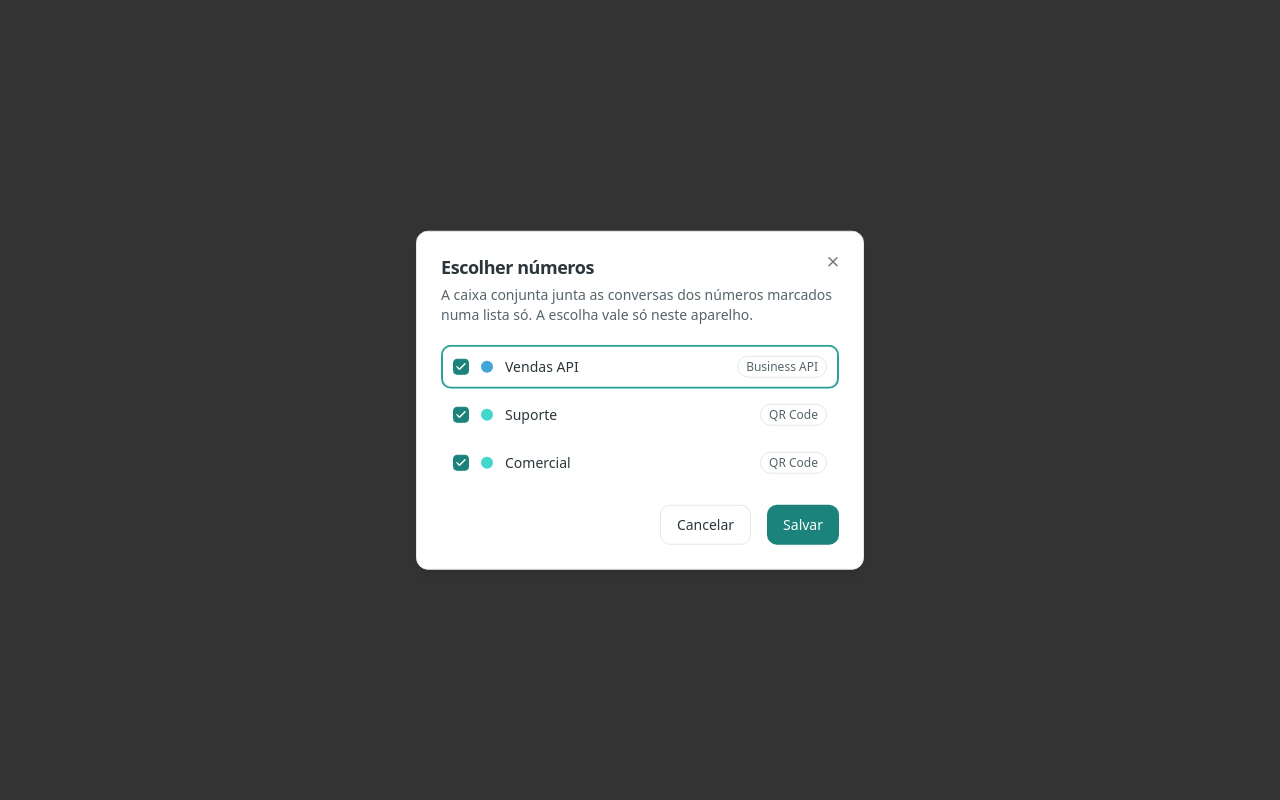
Test: CaixaConjuntaDialog › pede pelo menos 2 números e desliga o Salvar
Click the checkbox labelled "Suporte QR Code" at {"x": 531, "y": 414}, box [453,403,827,425]
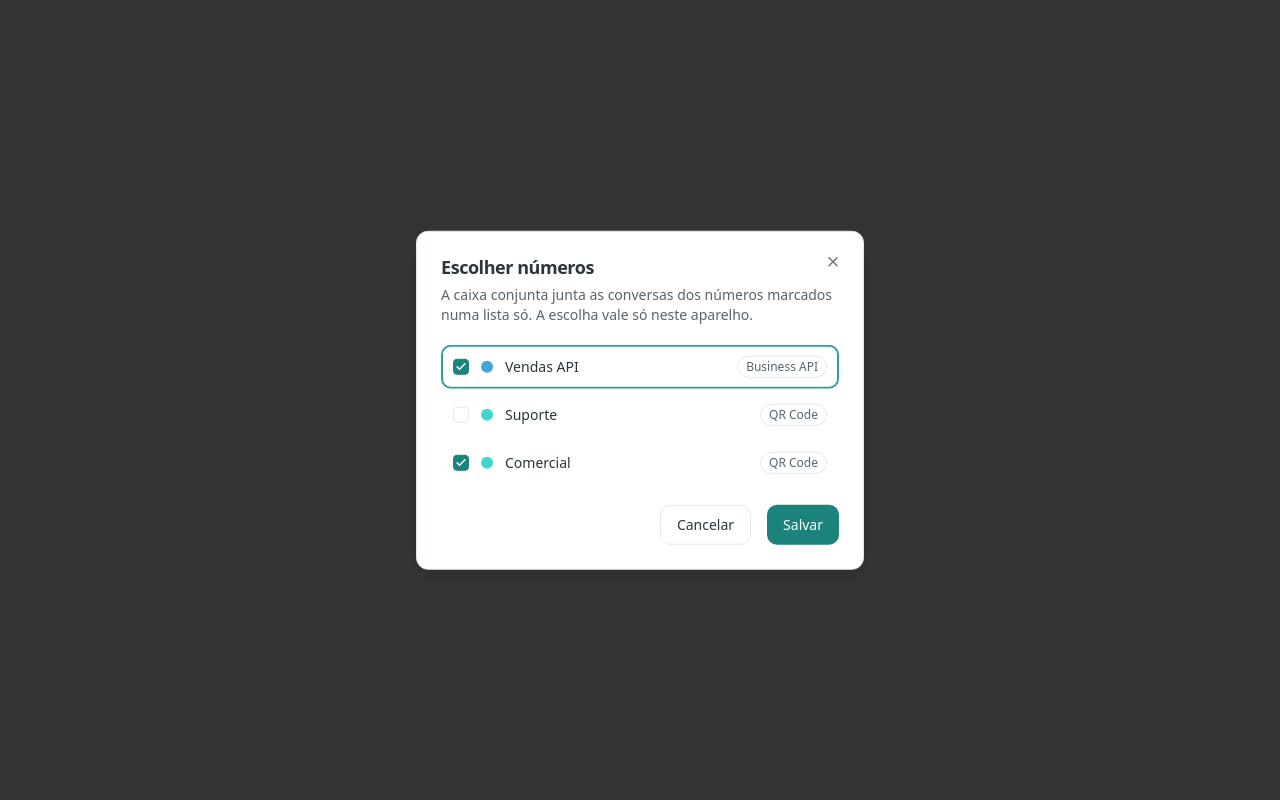
expect the text "Escolha pelo menos 2 números" is not shown: met
Click the checkbox labelled "Comercial QR Code" at {"x": 538, "y": 462}, box [453,451,827,473]
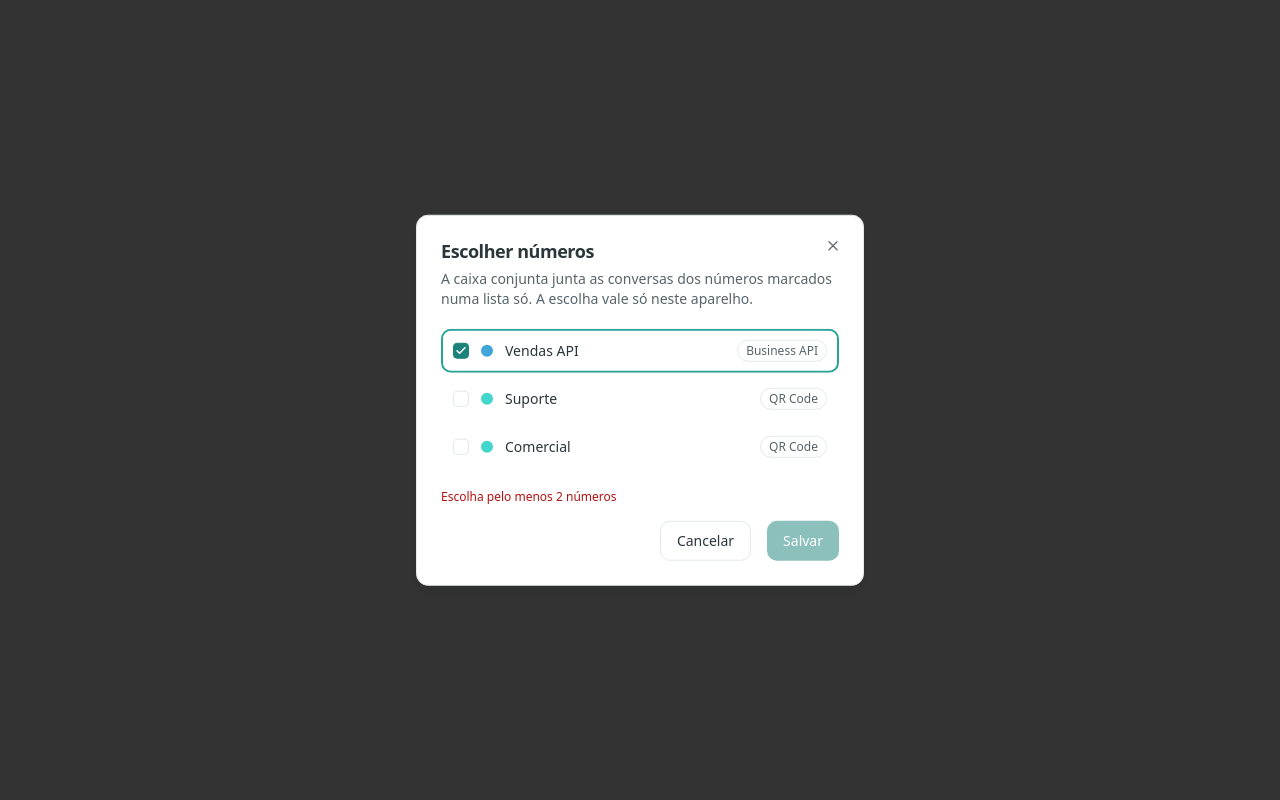
expect the text "Escolha pelo menos 2 números" is shown: met, box [441,487,616,504]
expect the button "Salvar" is disabled: met, box [767,520,839,560]
